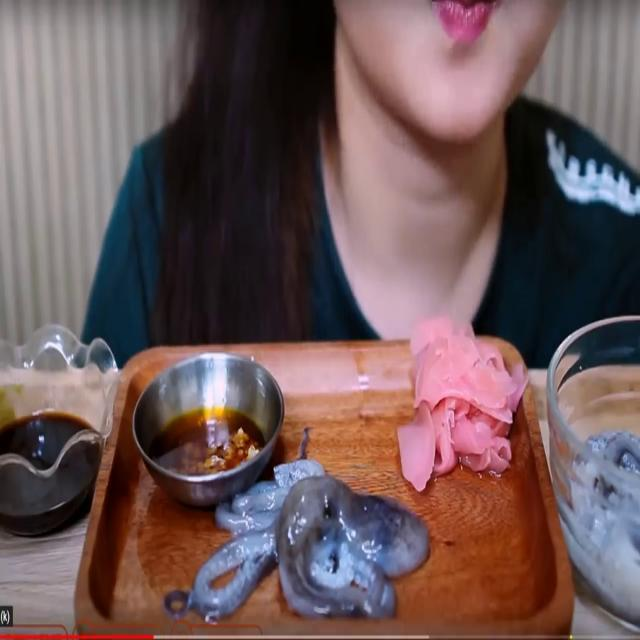octopus: (163, 461, 431, 625)
